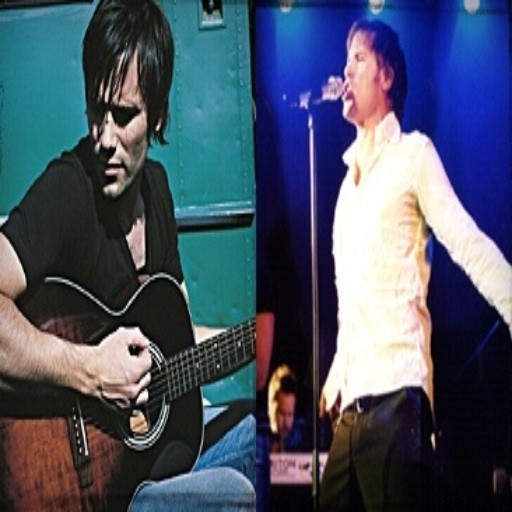hand: (68, 320, 156, 417), (317, 391, 342, 424)
